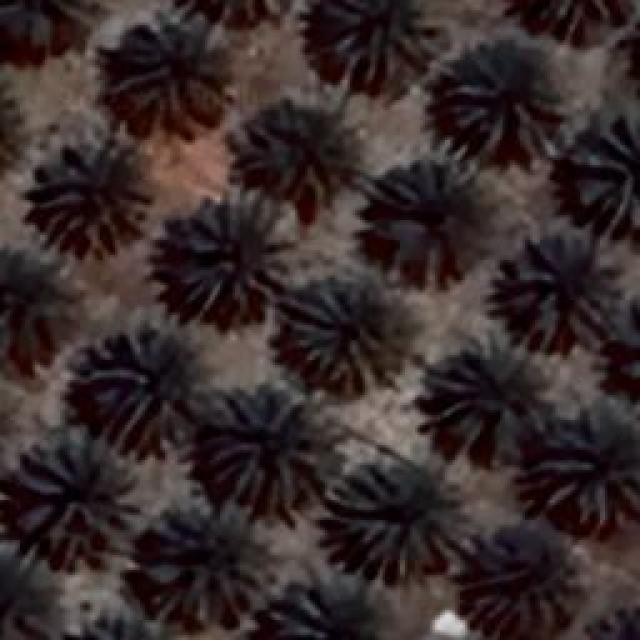PalmTree: (328, 450, 480, 580), (10, 432, 148, 558), (142, 500, 280, 625), (88, 315, 212, 450), (162, 190, 290, 320), (200, 382, 325, 510), (102, 10, 232, 130), (230, 90, 368, 202), (29, 137, 152, 260), (522, 398, 636, 530), (282, 270, 396, 390), (508, 230, 618, 352), (450, 55, 565, 160), (460, 528, 578, 630), (316, 0, 444, 88), (378, 171, 478, 274), (438, 348, 526, 452), (2, 262, 72, 376), (570, 113, 635, 230), (0, 0, 101, 68), (512, 0, 640, 50), (0, 553, 64, 640), (288, 582, 382, 640), (170, 0, 294, 36), (599, 312, 640, 416), (572, 597, 640, 640), (0, 88, 33, 174), (63, 613, 160, 640)
